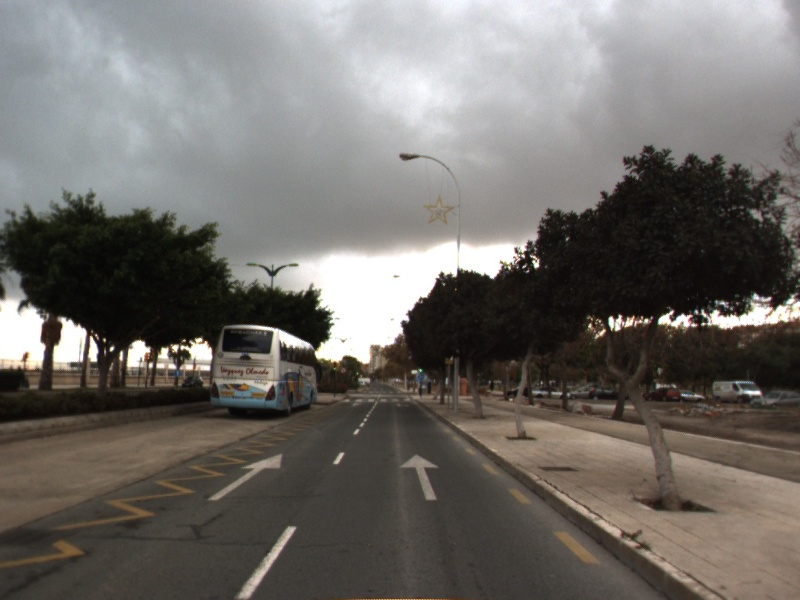STRAIGHT: (206, 451, 284, 502), (397, 452, 441, 502)
